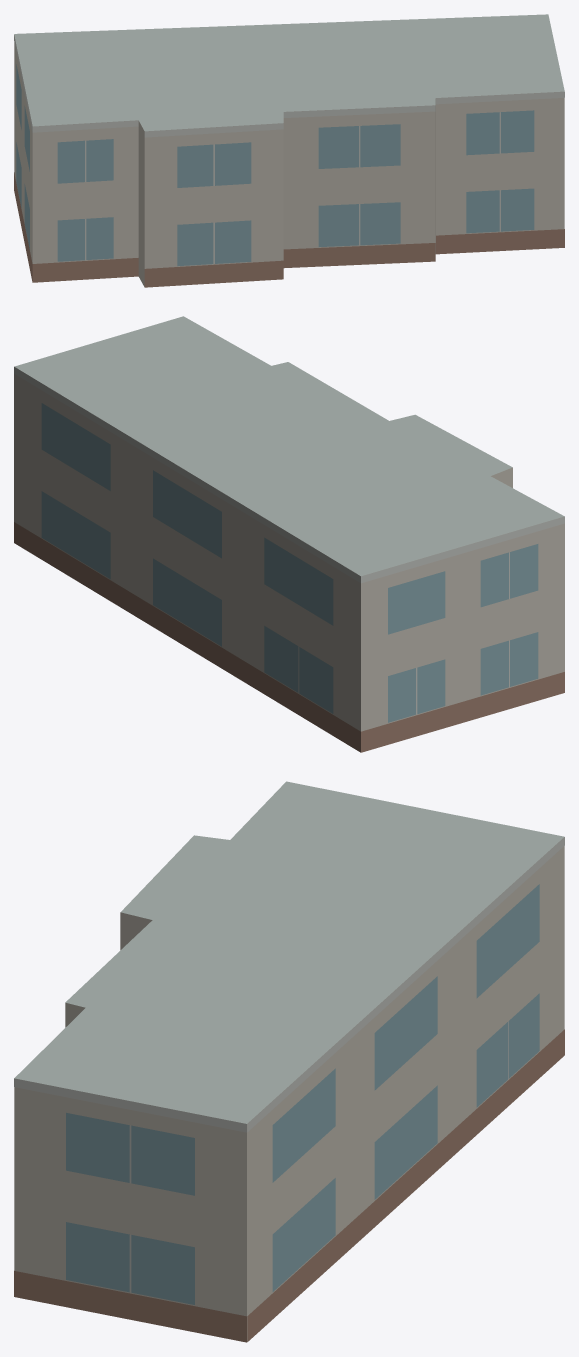
Rendered from survey-upis-32762983.glb.
3 renders of one model, top to bottom at view 1: azimuth 30°, elevation 25°; view 2: azimuth 150°, elevation 25°; view 3: azimuth 270°, elevation 25°, orthographic. The views are drawn at different scales.
Parts seen in each view (by area): view 1: survey-upis-32762983.tmp; view 2: survey-upis-32762983.tmp; view 3: survey-upis-32762983.tmp.
Part boxes in pixels (<box>): survey-upis-32762983.tmp: <box>14,14,564,287</box>; survey-upis-32762983.tmp: <box>14,316,564,752</box>; survey-upis-32762983.tmp: <box>14,781,564,1342</box>.
Size of the model in its own units: 20.52 by 6.1 by 13.94.
